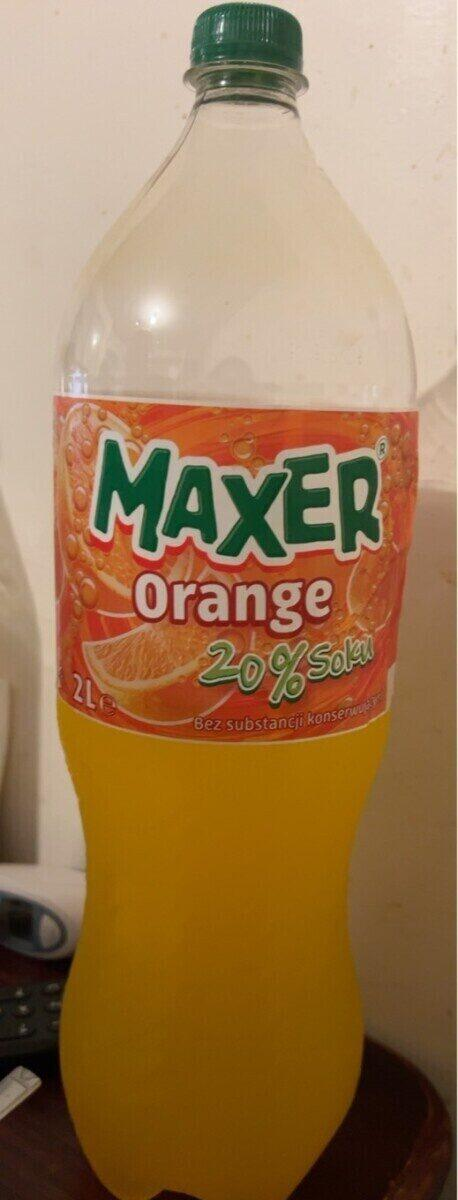PET: (51, 1, 419, 1198)
juice: (51, 1, 419, 1198)
maxer: (51, 1, 419, 1198)
plastic: (51, 1, 419, 1198)
